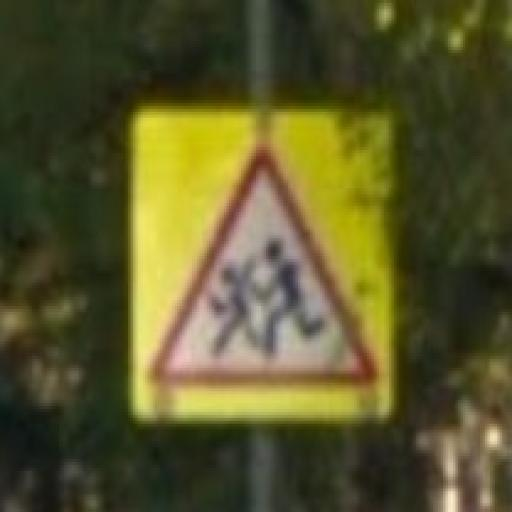traffic_sign: (124, 104, 407, 436)
